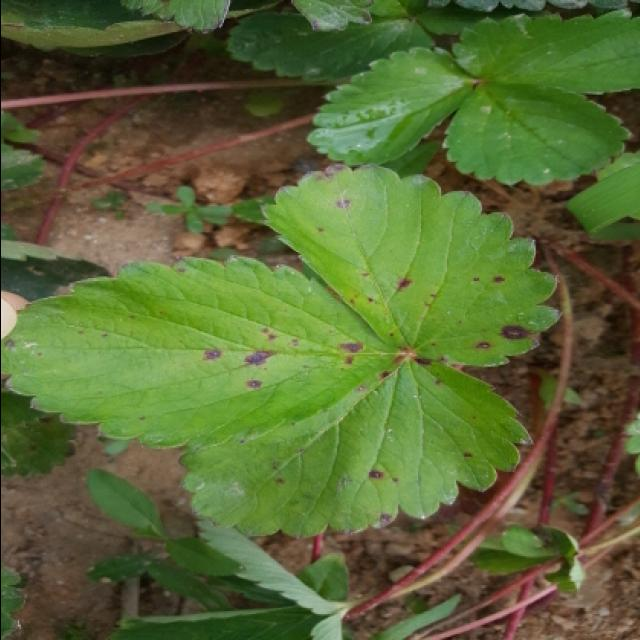Leaf Spot: (2, 252, 406, 450), (174, 361, 534, 540), (258, 163, 564, 367)
